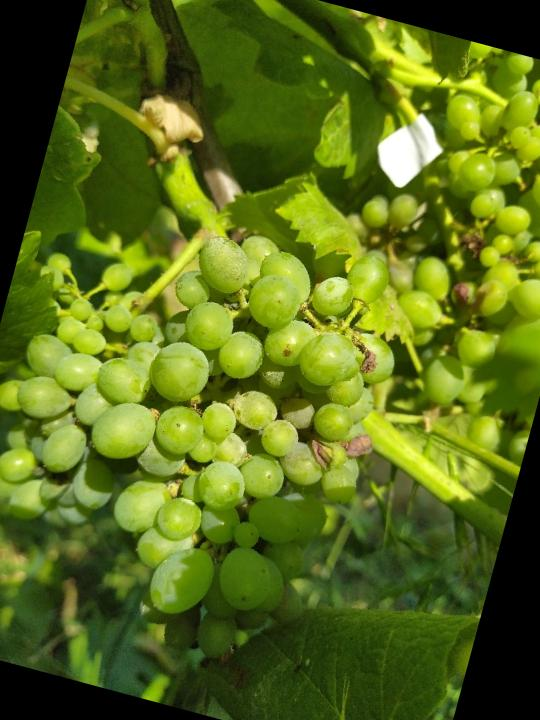grape: (0, 166, 425, 691)
